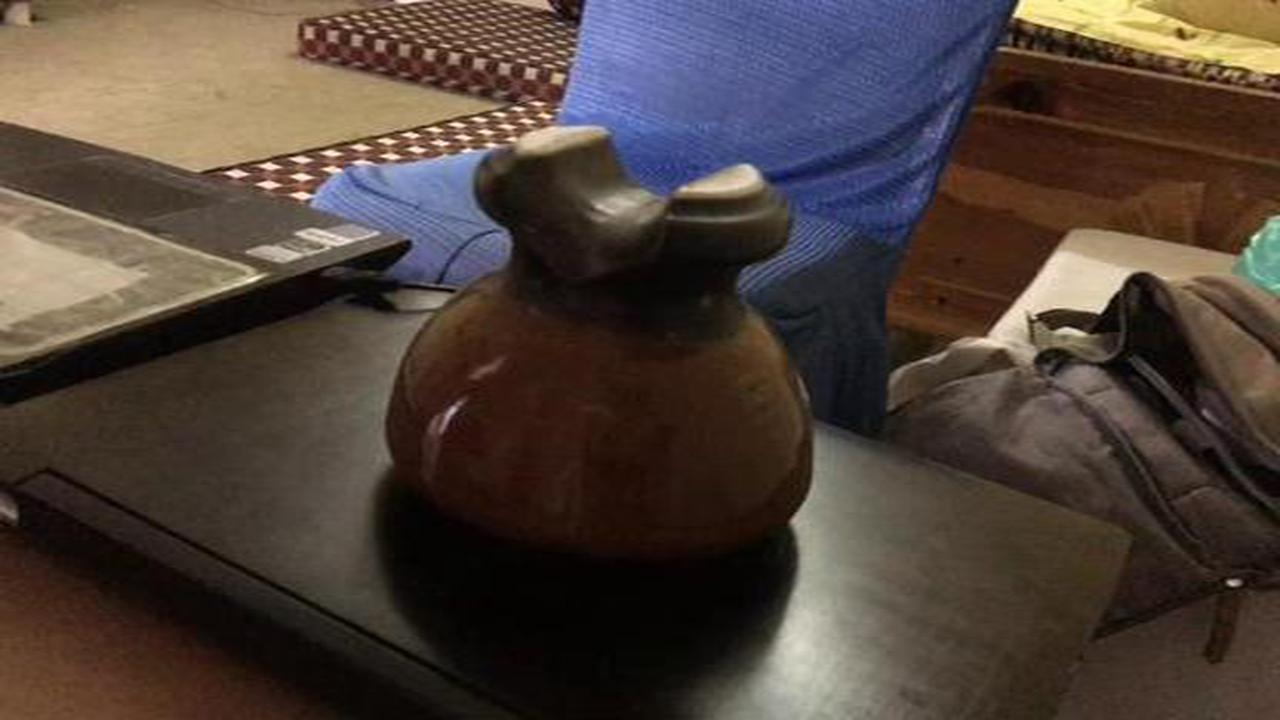insulator_pin: (348, 103, 834, 591)
